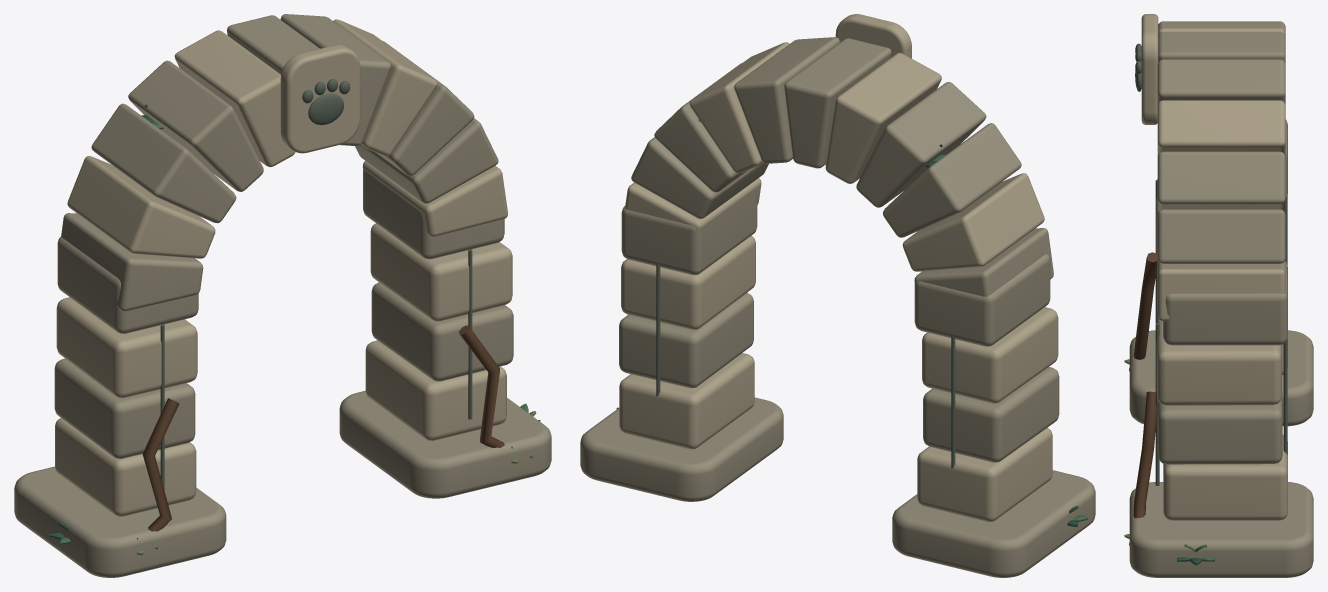
The model's file is ruin_arch_atelier.glb.
3 views of the same model, side by side, from view 1: azimuth 30°, elevation 25°; view 2: azimuth 150°, elevation 25°; view 3: azimuth 270°, elevation 25° (orthographic). The views are drawn at different scales.
Parts seen in each view (by area): view 1: ruin_arch_atelier__TaggedPainted_ruin_arch_atelier_Matte; view 2: ruin_arch_atelier__TaggedPainted_ruin_arch_atelier_Matte; view 3: ruin_arch_atelier__TaggedPainted_ruin_arch_atelier_Matte.
Part boxes in pixels (<box>): ruin_arch_atelier__TaggedPainted_ruin_arch_atelier_Matte: <box>14,14,551,577</box>; ruin_arch_atelier__TaggedPainted_ruin_arch_atelier_Matte: <box>580,14,1095,577</box>; ruin_arch_atelier__TaggedPainted_ruin_arch_atelier_Matte: <box>1124,14,1313,577</box>.
Size of the model in its own units: 3.35 by 3.1 by 1.18.
